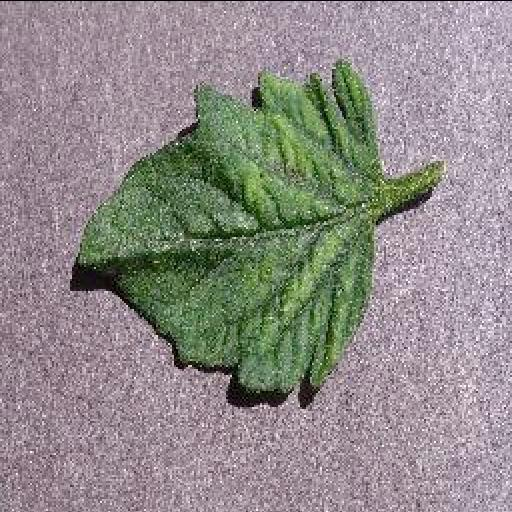disease_tomato: (75, 53, 391, 401)
